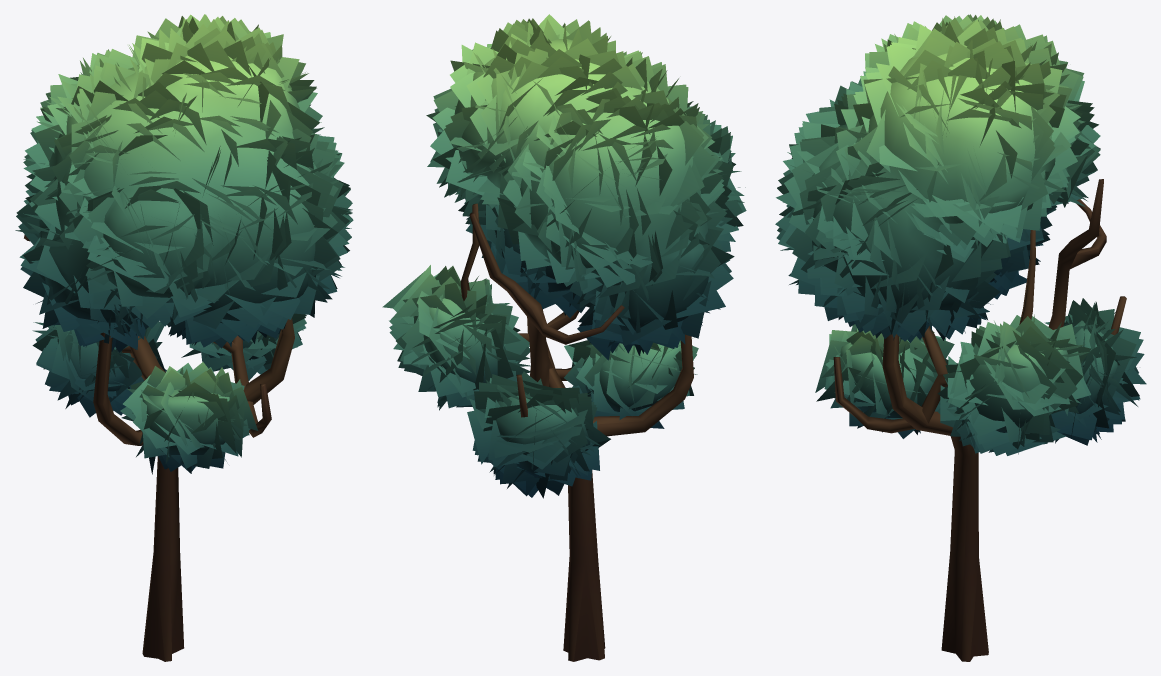
Rendered from Forest_Tree_6D.fbx.
The picture shows the model from 3 angles, left to right: view 1: azimuth 30°, elevation 25°; view 2: azimuth 150°, elevation 25°; view 3: azimuth 270°, elevation 25°; orthographic projection. The views are drawn at different scales.
Parts seen in each view (by area): view 1: Forest_Tree_6D; view 2: Forest_Tree_6D; view 3: Forest_Tree_6D.
Boxes of the visible parts, <box> form: Forest_Tree_6D: <box>15,14,353,661</box>; Forest_Tree_6D: <box>382,14,746,661</box>; Forest_Tree_6D: <box>775,14,1146,661</box>.
Size of the model in its own units: 524 by 986 by 523.
